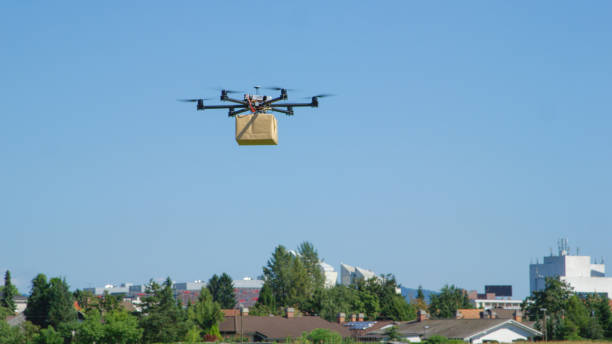Drone: (167, 80, 341, 120)
